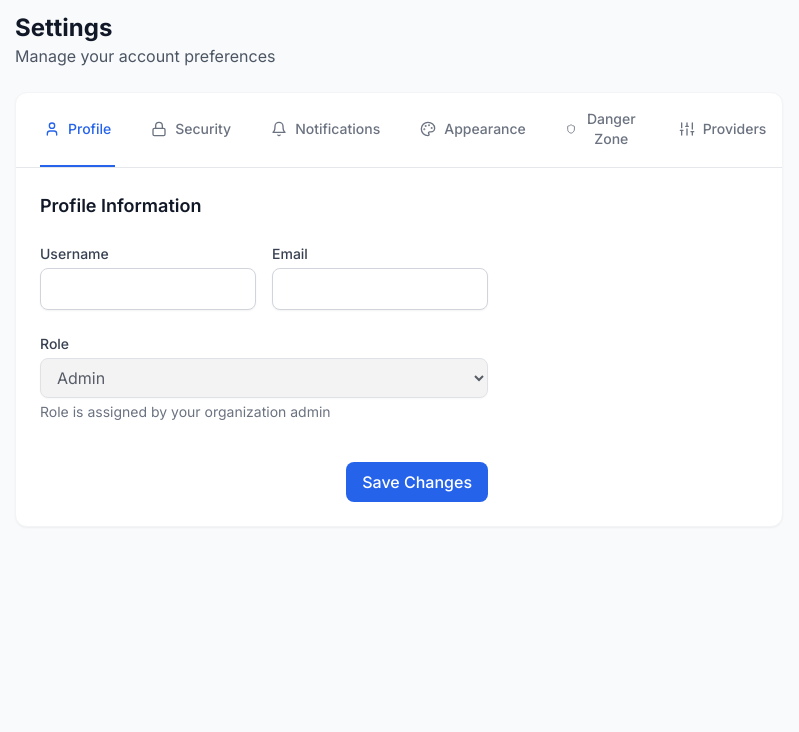
Settings page — enrichment providers (Phase 2.1) › renders provider rows with edit and delete actions
The width and height of the screenshot is (799, 732).
Click the tab "Providers". click: (722, 130)
box: top-left (675, 93), bottom-right (770, 167)
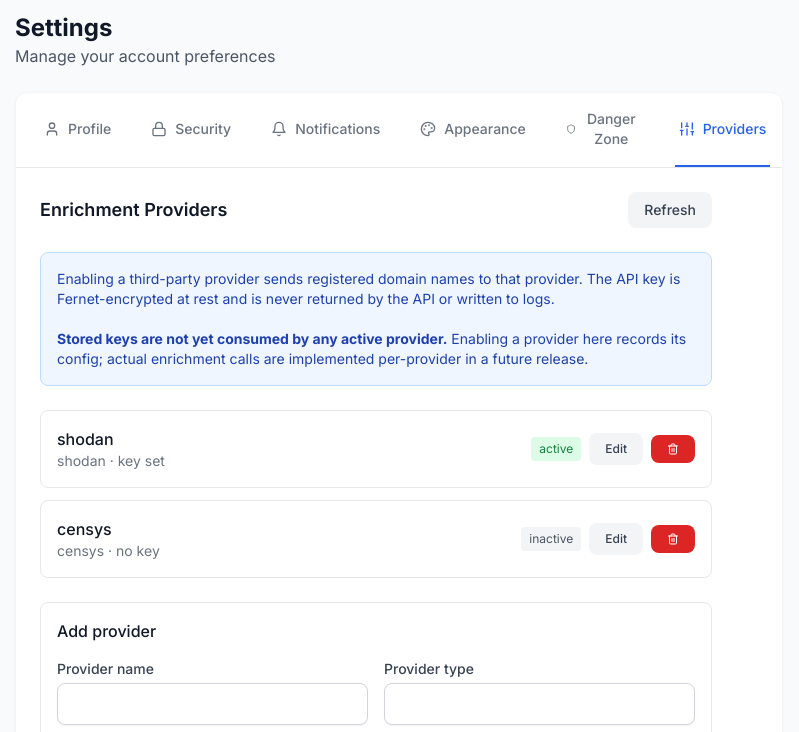
Check: the text "shodan" is shown, box top-left (57, 429), bottom-right (114, 449)
Check: the text "shodan · key set" is shown, box top-left (57, 451), bottom-right (165, 471)
Check: the text "censys · no key" is shown, box top-left (57, 541), bottom-right (160, 561)
